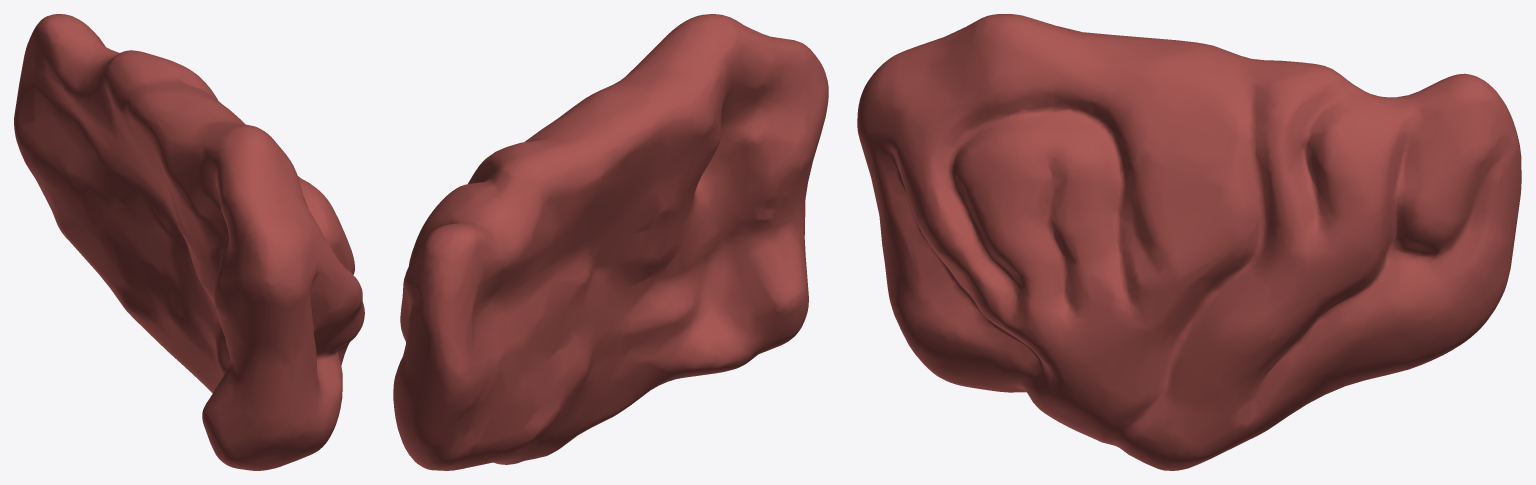
The model's file is FMA72978.glb.
3 renders of one model, left to right at view 1: azimuth 30°, elevation 25°; view 2: azimuth 150°, elevation 25°; view 3: azimuth 270°, elevation 25°, orthographic. The views are drawn at different scales.
Parts seen in each view (by area): view 1: FMA72978; view 2: FMA72978; view 3: FMA72978.
Part boxes in pixels (bbox=[...]): FMA72978: bbox=[14, 14, 364, 470]; FMA72978: bbox=[393, 14, 828, 470]; FMA72978: bbox=[857, 14, 1521, 470].
Size of the model in its own units: 0.0183 by 0.0327 by 0.0489.
